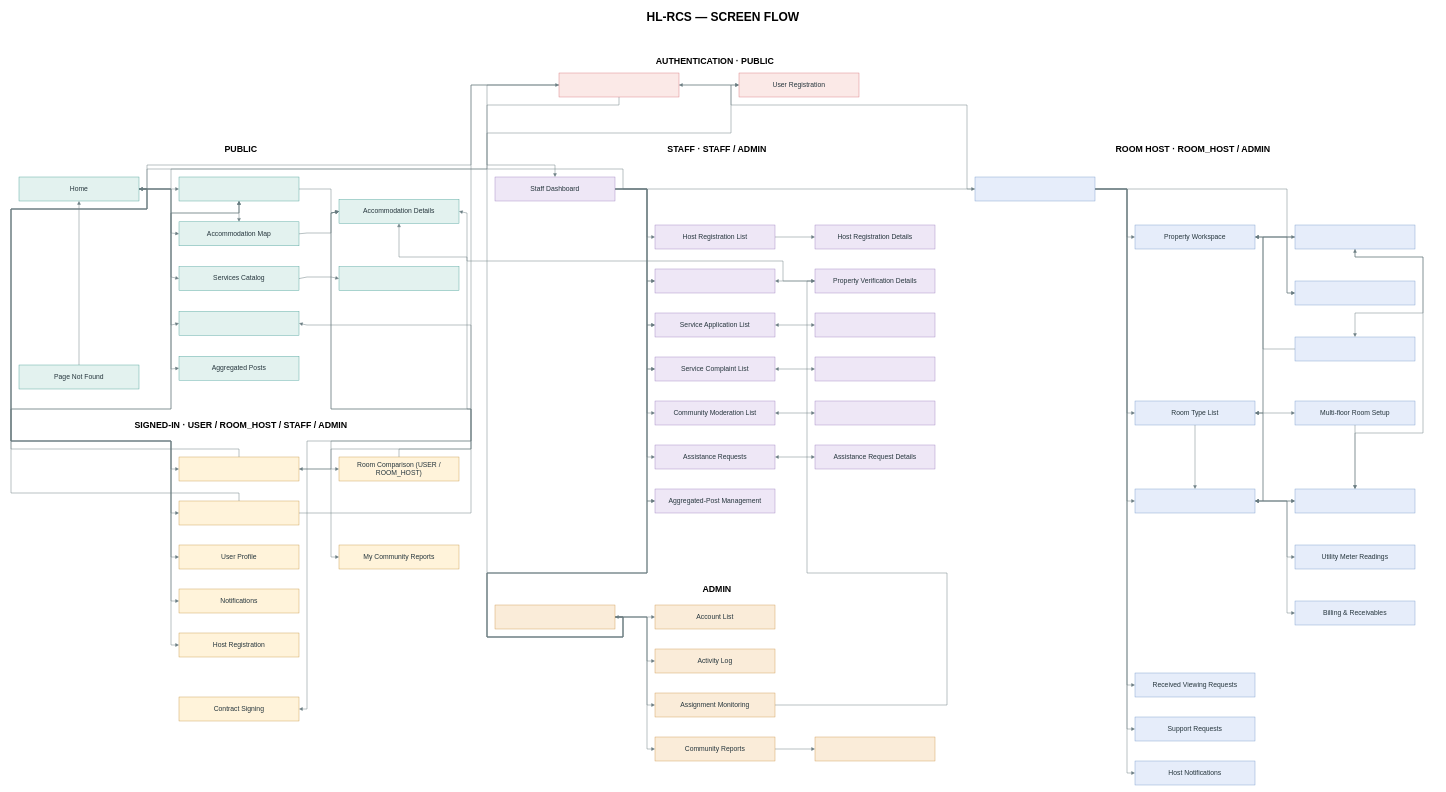
Some shapes in this 1446 by 792 pixel diagram are drawn without their labels. Here are the shapes that lost their labels. From the top down, the centre of each, then its label:
the point at 619,85: User Login
the point at 239,189: Accommodation Search
the point at 1035,189: Host Dashboard
the point at 1355,237: Host Property Details
the point at 399,278: Service Details
the point at 715,281: Property Verification List
the point at 1355,293: Property Registration Form
the point at 239,323: Community
the point at 875,325: Service Application Details
the point at 875,369: Service Complaint Details
the point at 1355,349: Property Edit Form
the point at 875,413: Post Moderation Details
the point at 239,469: Saved Rooms (USER / ROOM_HOST)
the point at 239,513: My Viewing Appointments
the point at 1195,501: Room List
the point at 1355,501: Room Publication Selection
the point at 555,617: Admin Dashboard
the point at 875,749: Community Report Details
